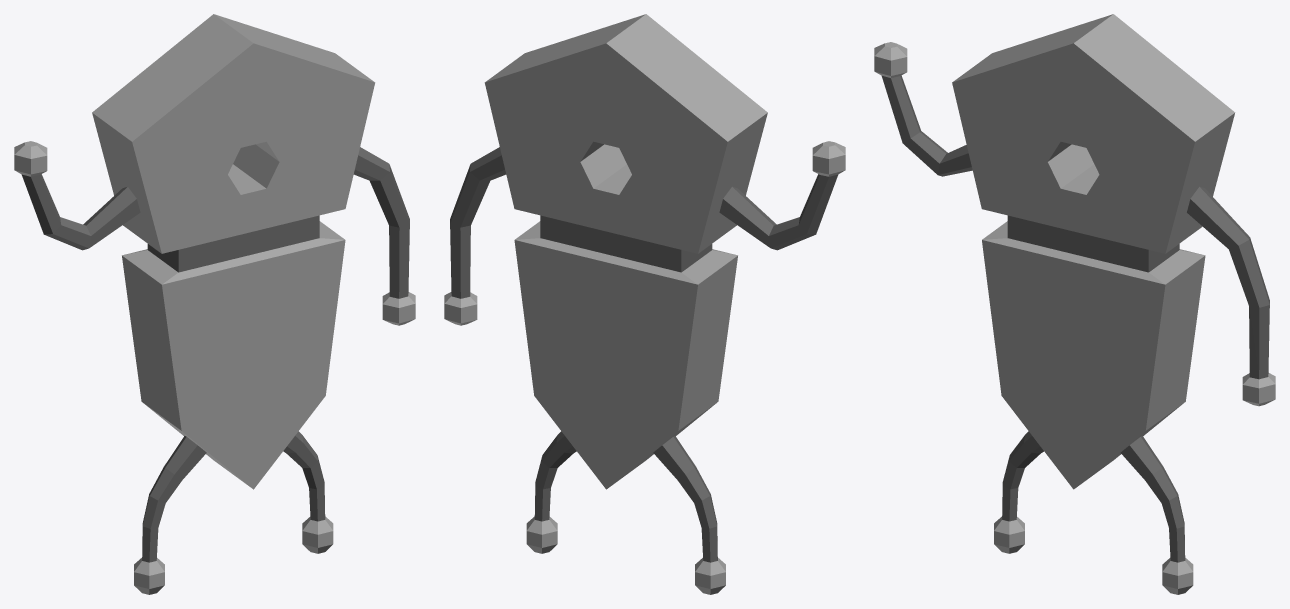
Rendered from Toeni2.glb.
3 renders of one model, left to right at view 1: azimuth 30°, elevation 25°; view 2: azimuth 150°, elevation 25°; view 3: azimuth 330°, elevation 25°, orthographic.
Visible parts, largest first — view 1: Toeni2; view 2: Toeni2; view 3: Toeni2.
Part boxes in pixels (x1,y1,x2,y2): Toeni2: [14, 14, 415, 594]; Toeni2: [444, 14, 845, 594]; Toeni2: [874, 14, 1275, 594].
Bounding box in the file's own units: 8.62 × 11.13 × 1.49.
1 material, 1 textured.
